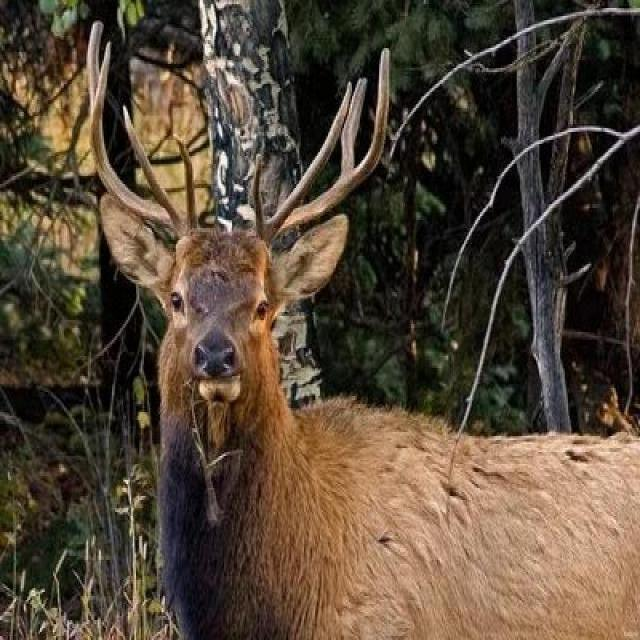deer: (114, 129, 440, 556)
